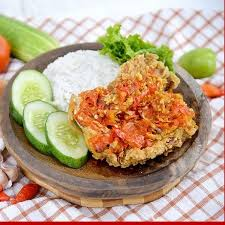ayam_geprek: (48, 44, 210, 183)
